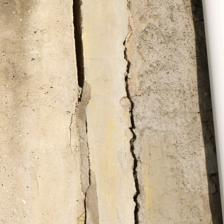Crack: (0, 142, 82, 224), (52, 0, 98, 104), (97, 39, 128, 60)
